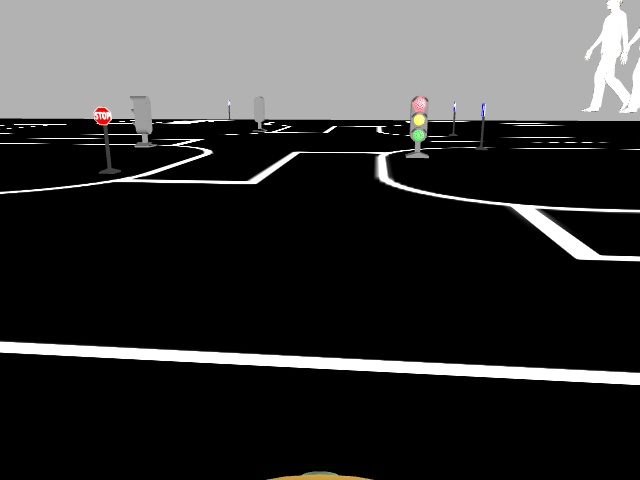Stop: (92, 106, 110, 124)
TrafficLight: (408, 95, 428, 143)
